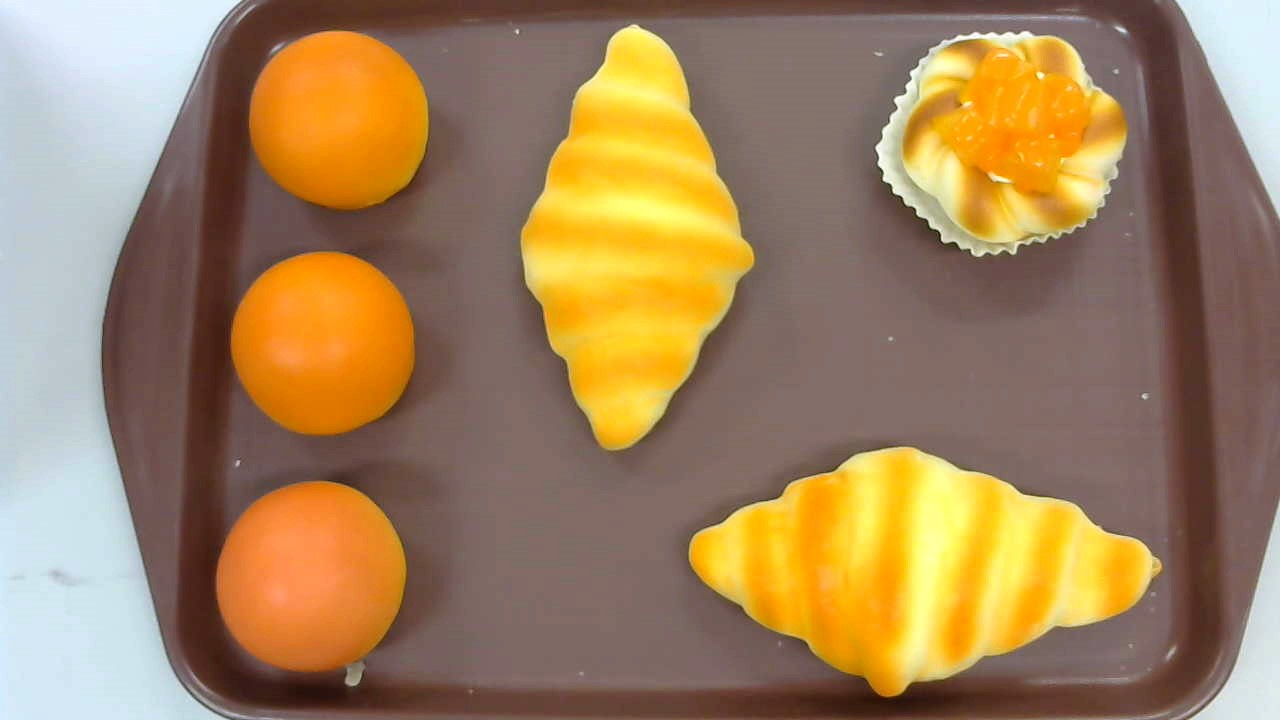bun: (216, 479, 405, 673), (231, 251, 416, 435), (248, 29, 429, 212)
croissant: (687, 446, 1163, 698), (520, 23, 756, 453)
mango tart: (875, 28, 1128, 259)
